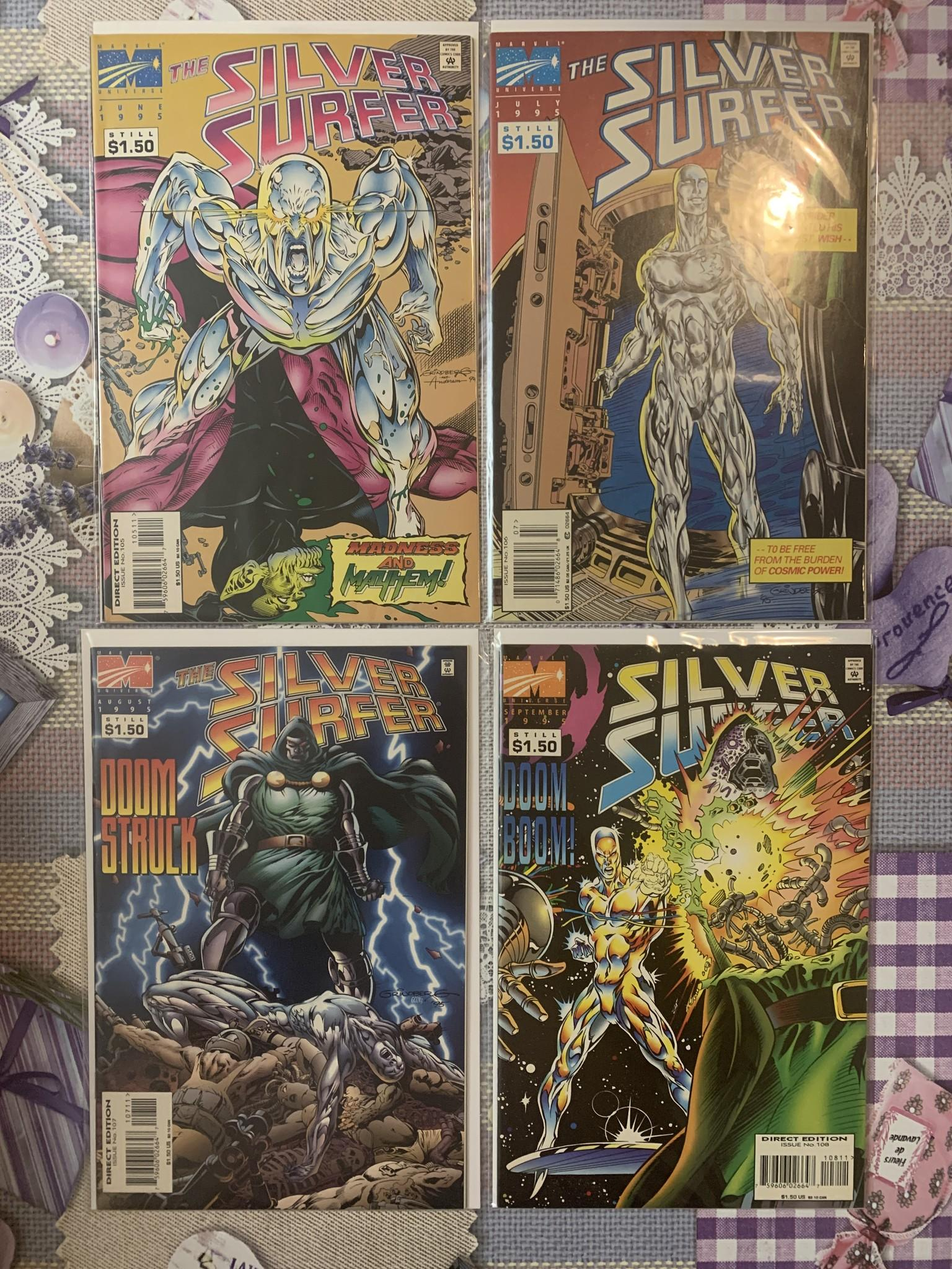comic: (92, 21, 479, 624), (486, 22, 871, 624), (84, 630, 478, 1209), (494, 626, 872, 1209)
